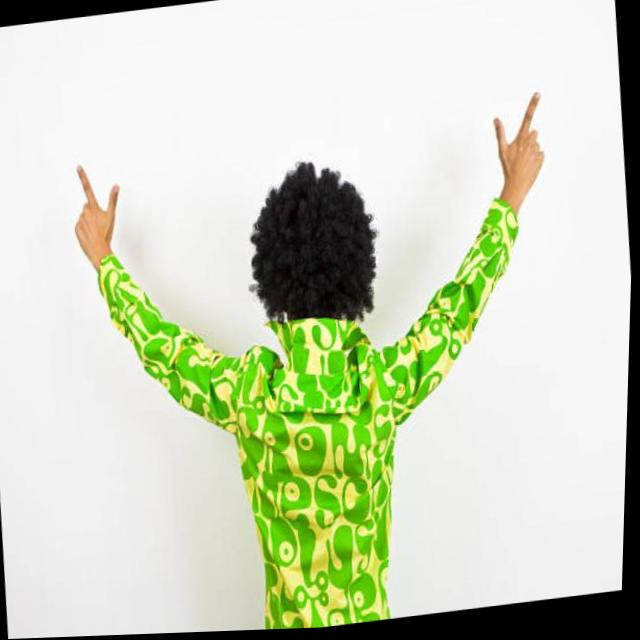no helmet: (244, 160, 385, 333)
